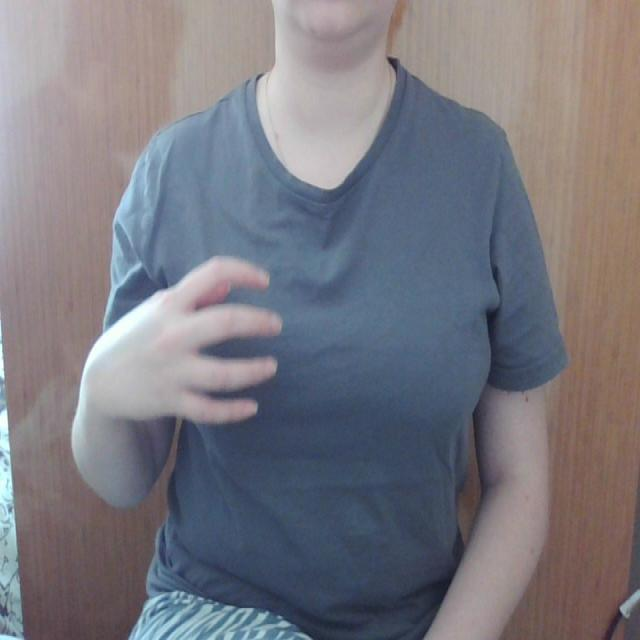Anne: (95, 227, 493, 436)
